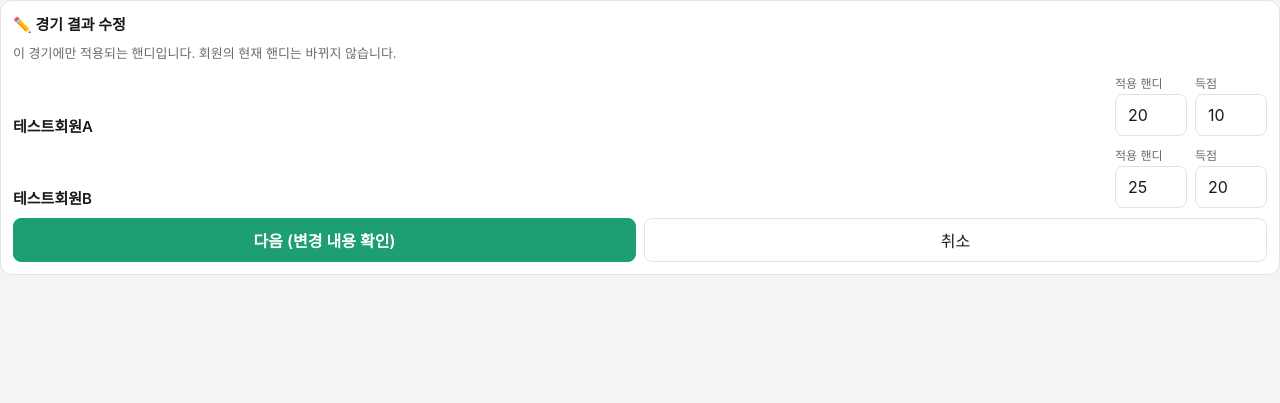
Test: CompletedGameEditor — 1단계: 입력 › 적용 핸디를 올리면 그 핸디까지의 점수는 통과한다(핸디를 올려 친 경우)
Replace the text in the number field named "테스트회원A 적용 핸디" with "22" at (1151, 114), box x1=1115 y1=94 x2=1187 y2=136
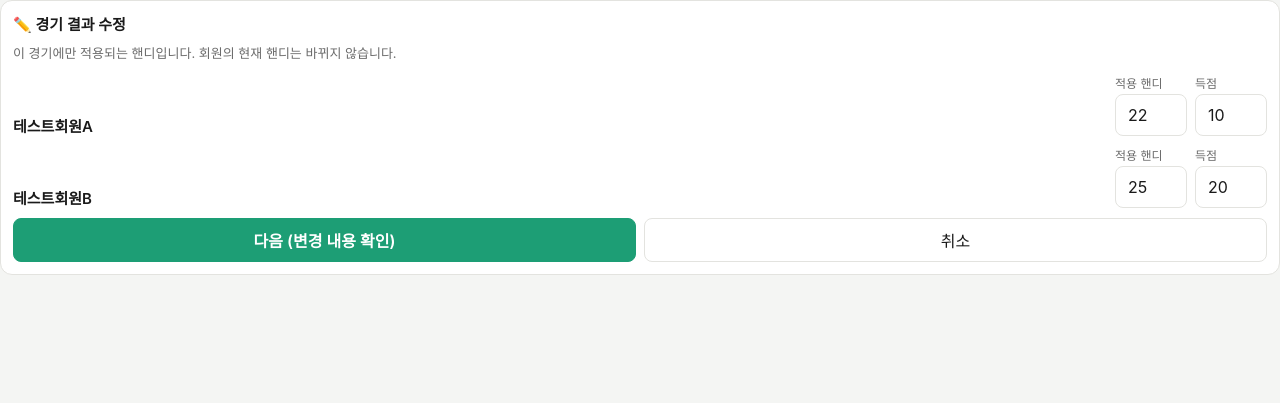
Replace the text in the number field named "테스트회원A 득점" with "22" at (1231, 114), box x1=1195 y1=94 x2=1267 y2=136
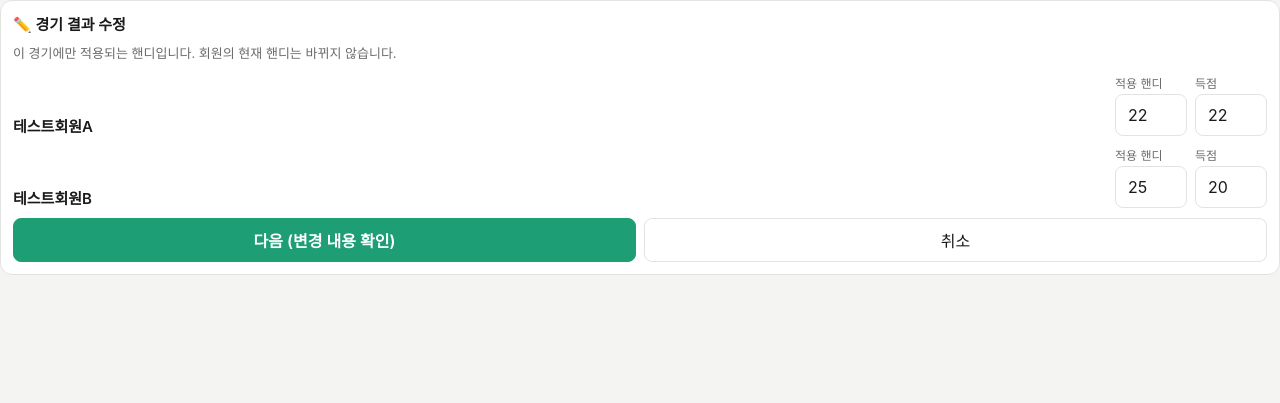
Click the button "다음 (변경 내용 확인)" at (324, 240), box x1=13 y1=218 x2=636 y2=262
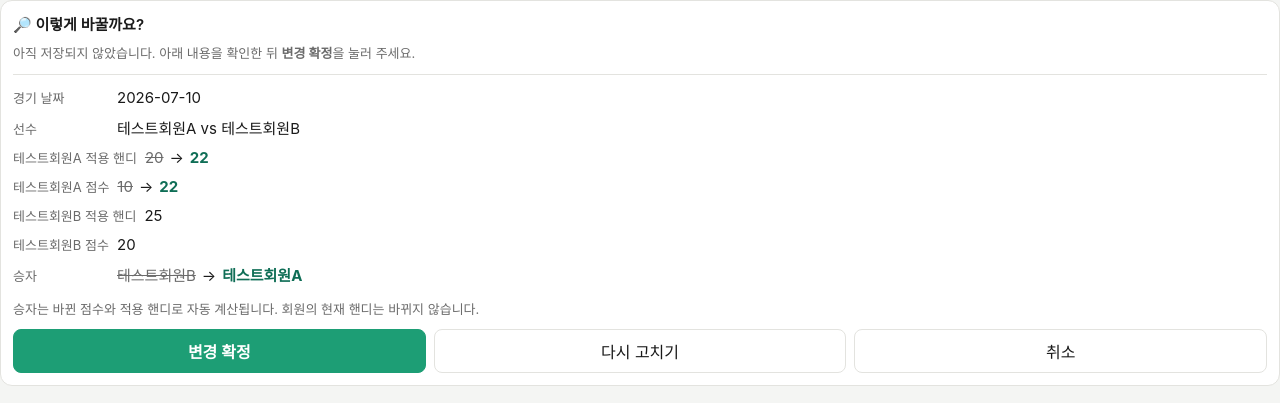
Check: the button "변경 확정" is shown, box x1=13 y1=329 x2=426 y2=373
